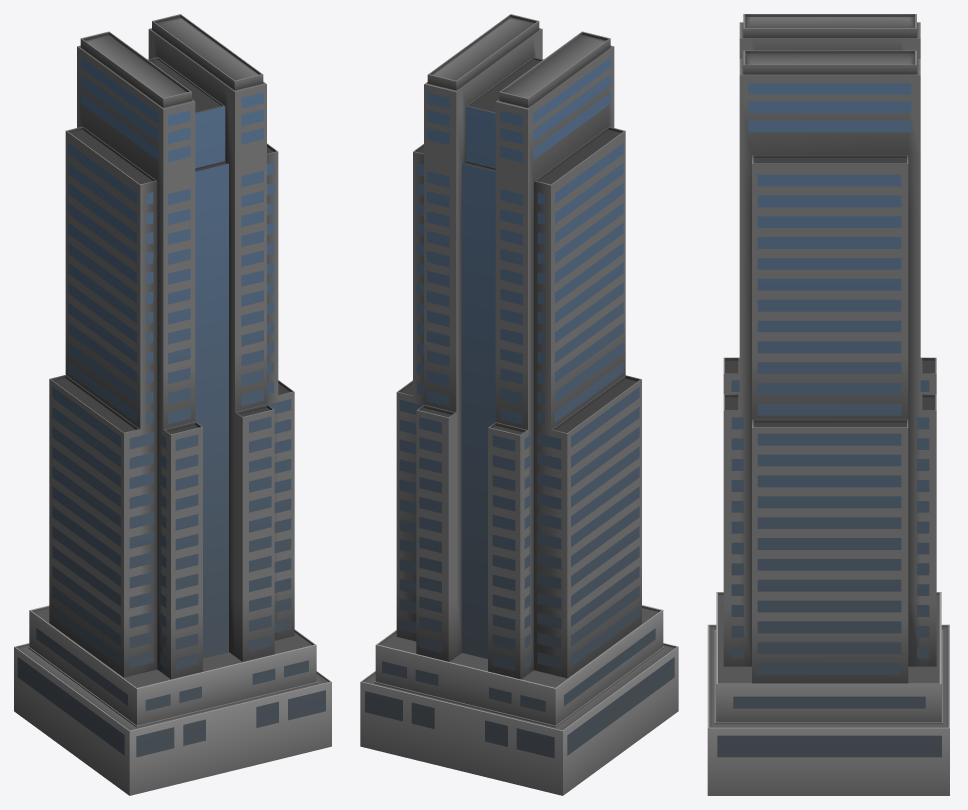
The picture shows the model from 3 angles, left to right: view 1: azimuth 30°, elevation 25°; view 2: azimuth 150°, elevation 25°; view 3: azimuth 270°, elevation 25°; orthographic projection. The views are drawn at different scales.
Visible parts, largest first — view 1: base.193; view 2: base.193; view 3: base.193.
Boxes of the visible parts, x1,y1,x2,y2 form: base.193: (14,14,331,795); base.193: (360,14,678,795); base.193: (707,14,949,795).
Size of the model in its own units: 0.1582 by 0.5 by 0.1588.
